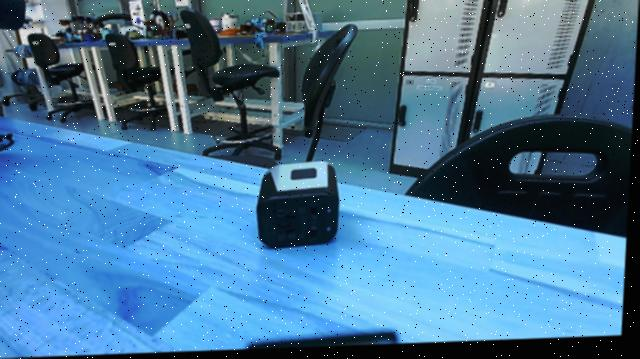adapter: (246, 162, 350, 259)
